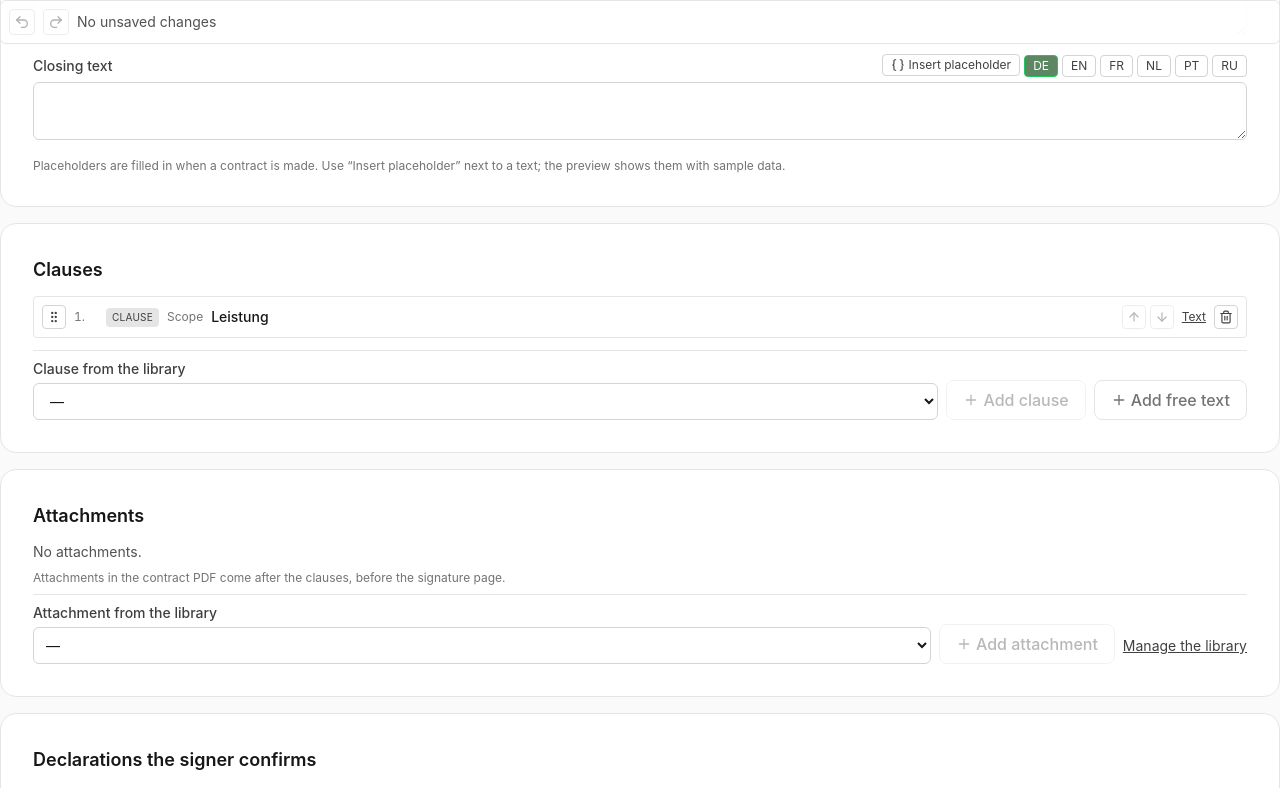
Test: "Compare" shows their version against mine
(page scrolled)
Expected: the text "Leistung" is shown, [211, 308, 269, 325]
Click the button "Add free text".
click(1170, 400)  # box [1094, 380, 1247, 420]
(page scrolled)
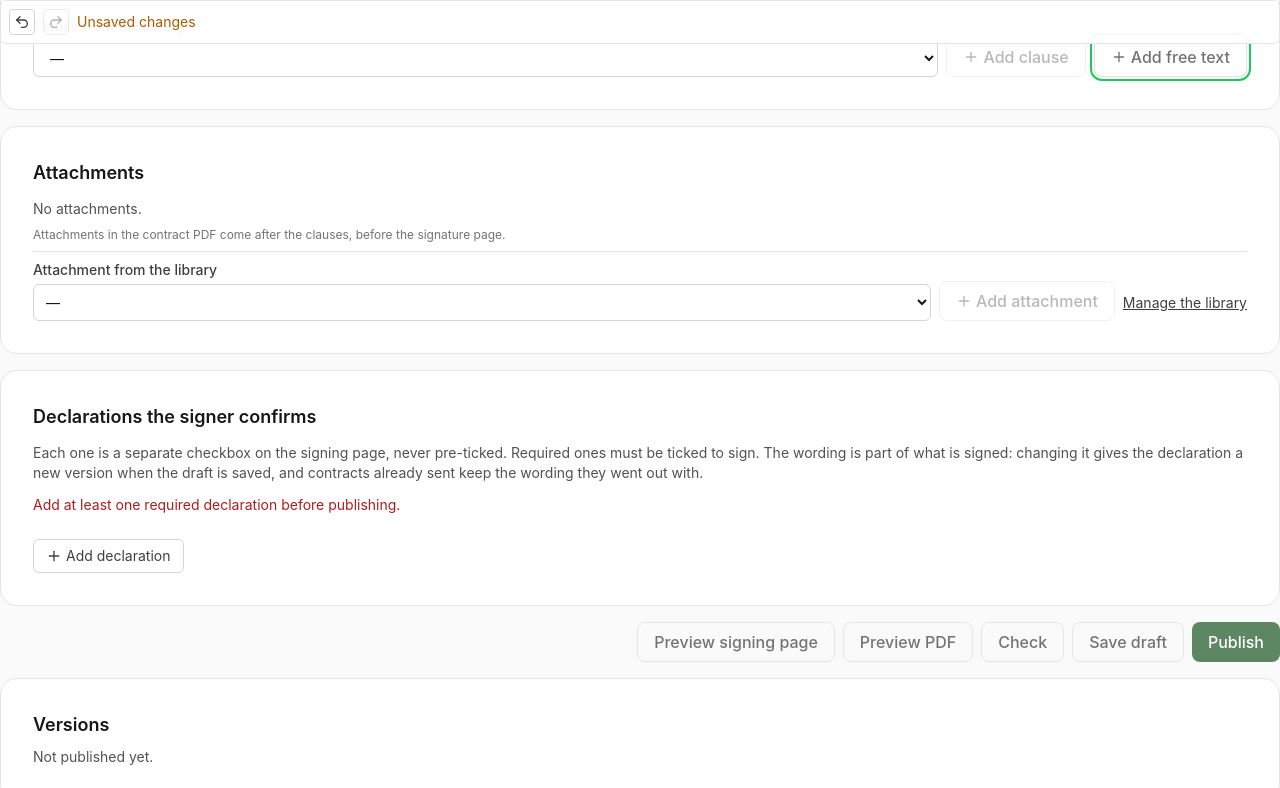
Click the button "Save draft".
click(1128, 642)  # box [1072, 622, 1184, 662]
(page scrolled)
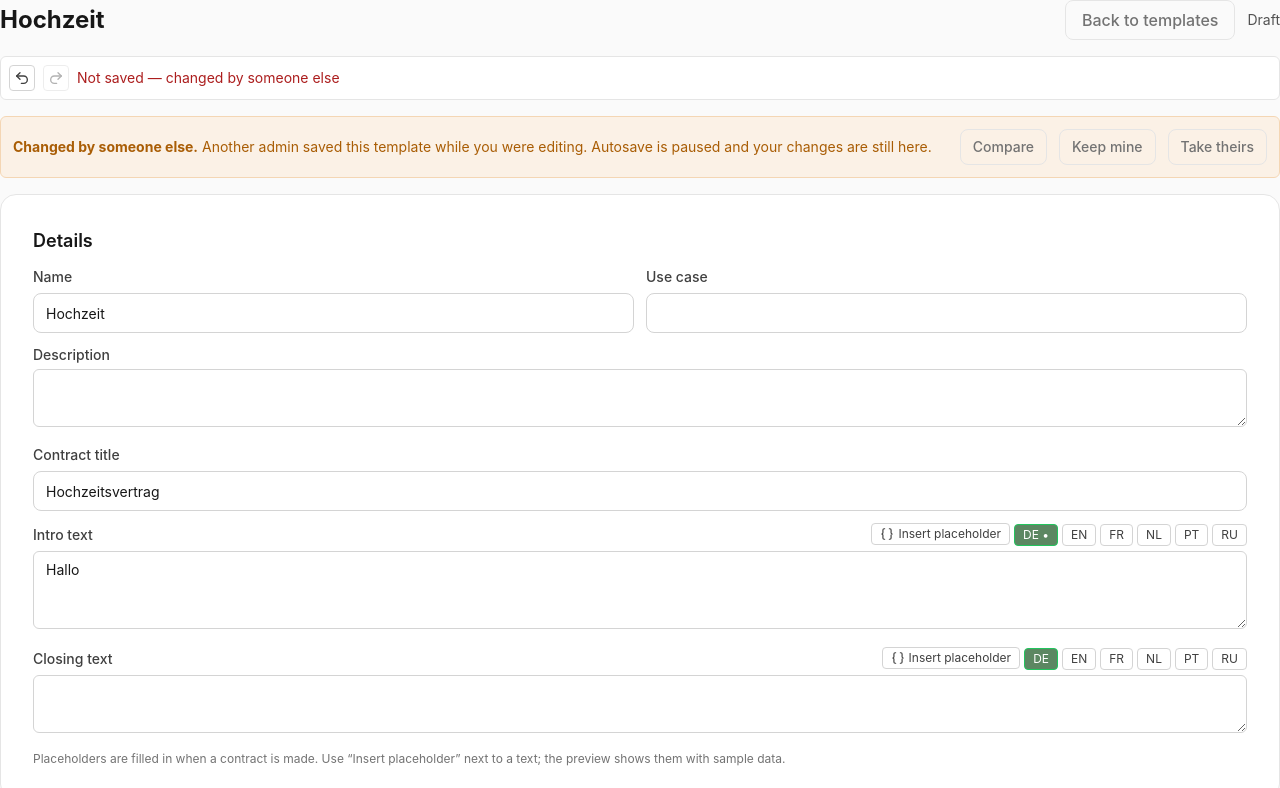
Expected: the text "Changed by someone else." is shown, [13, 138, 198, 155]
Click the button "Compare".
click(1003, 147)  # box [960, 129, 1047, 165]
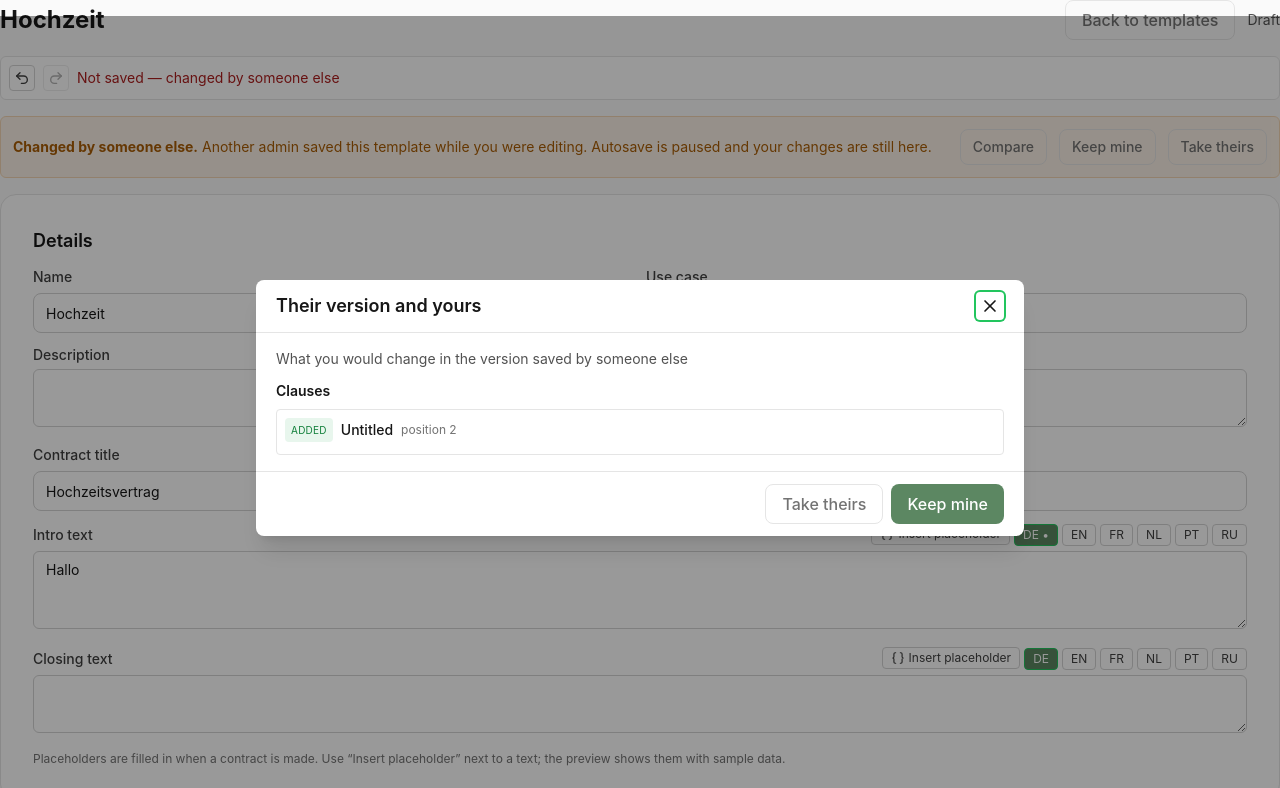
Expected: the dialog "Their version and yours" shows "Added", [291, 424, 327, 436]
